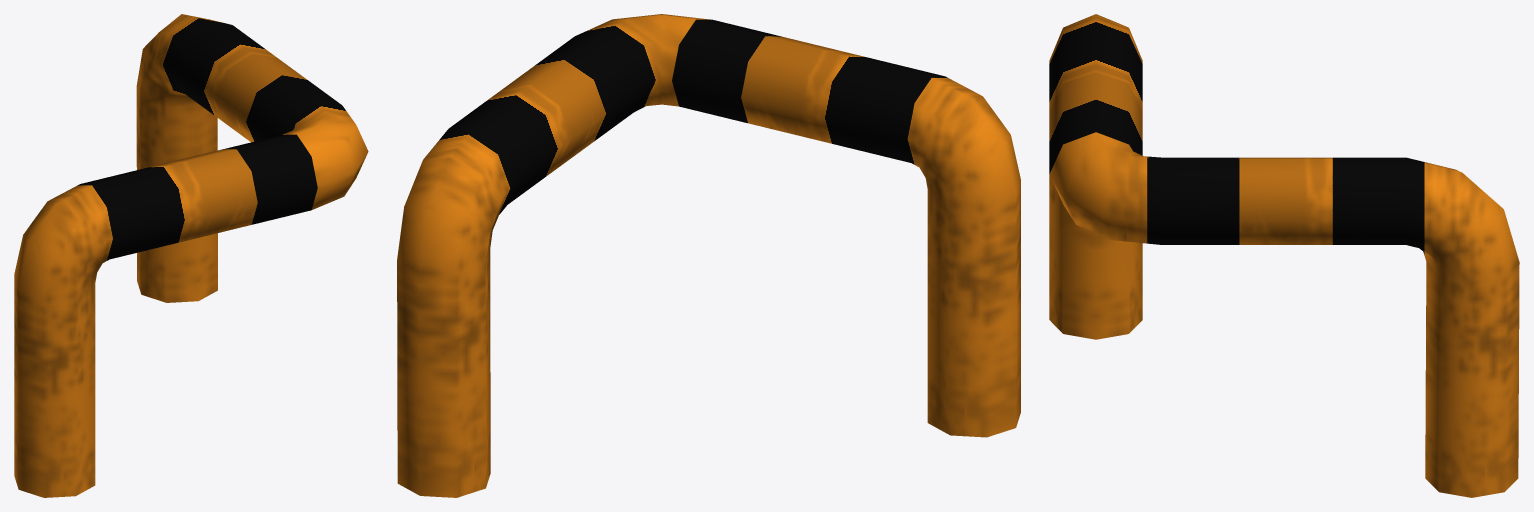
Rendered from Corner_Limiter1-1.FBX.
3 views of the same model, side by side, from view 1: azimuth 30°, elevation 25°; view 2: azimuth 150°, elevation 25°; view 3: azimuth 270°, elevation 25° (orthographic). The views are drawn at different scales.
Parts seen in each view (by area): view 1: Corner_Limiter1-1; view 2: Corner_Limiter1-1; view 3: Corner_Limiter1-1.
Part boxes in pixels (x1,y1,x2,y2): Corner_Limiter1-1: (14, 14, 368, 497); Corner_Limiter1-1: (397, 14, 1020, 497); Corner_Limiter1-1: (1049, 14, 1519, 497).
Bounding box in the file's own units: 753 × 567 × 757.
1 material, 1 textured.
